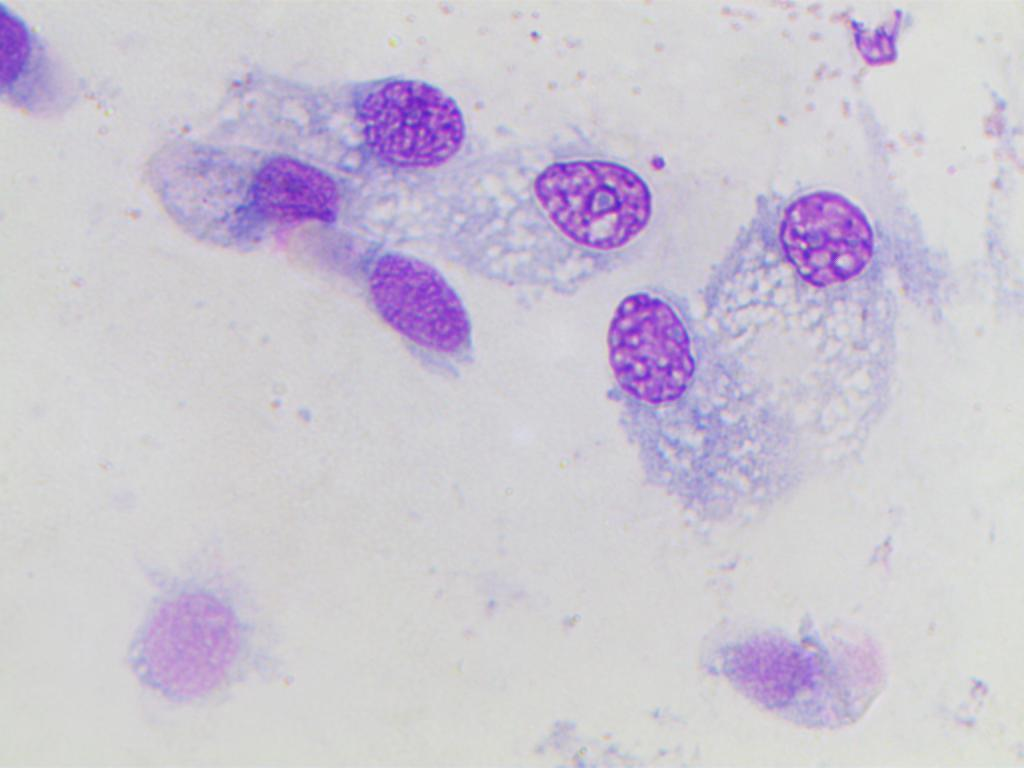epithelial: (94, 559, 285, 725), (702, 622, 895, 735), (324, 68, 470, 169), (0, 0, 106, 126), (366, 249, 477, 353)
goblet_cell: (483, 145, 672, 273), (602, 287, 713, 462), (747, 183, 876, 317), (177, 154, 341, 254)
